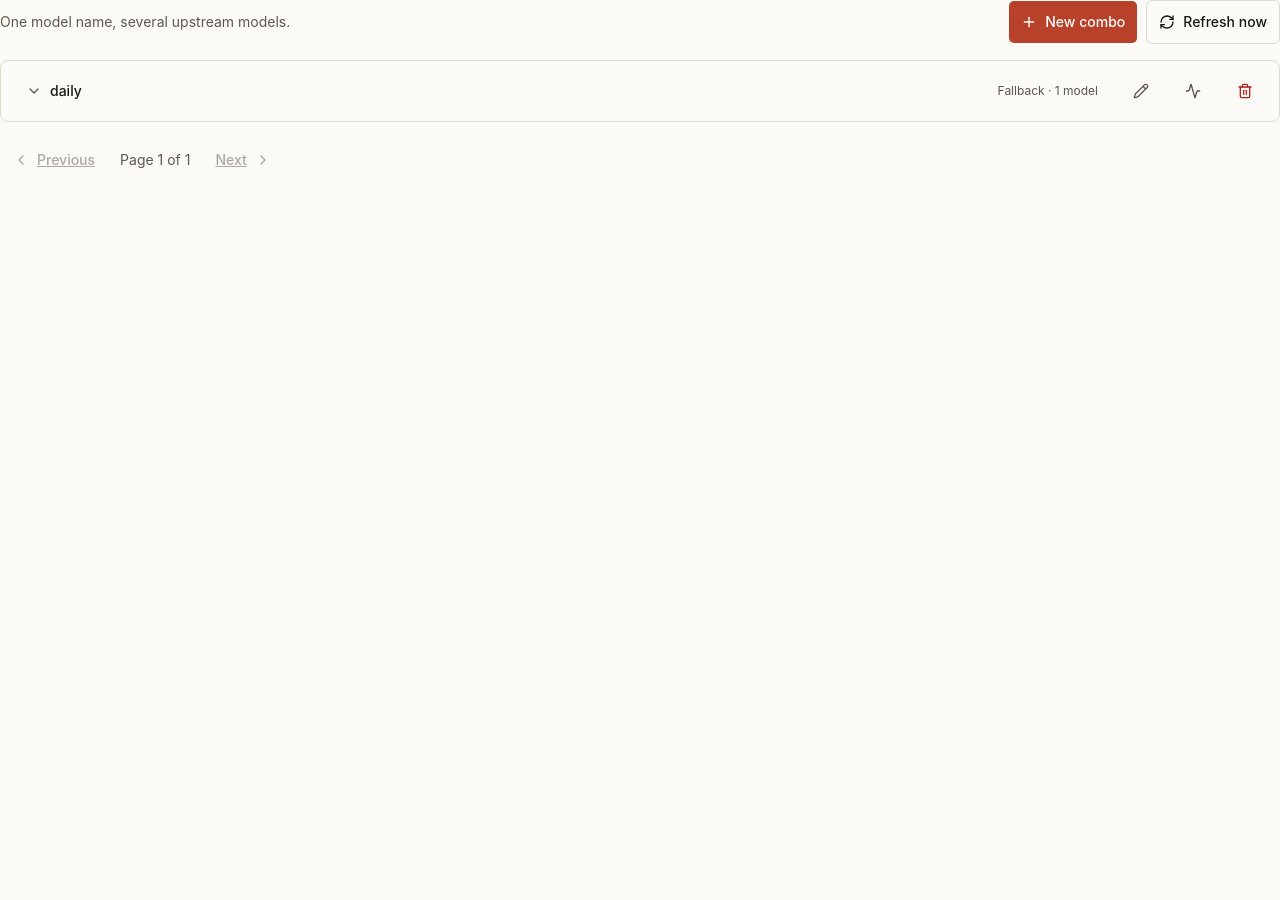
Test case: the combos toolbar › opens the editor as a modal, not inline above the list
Click the button "New combo" at (1073, 22), box [1008,0,1138,44]
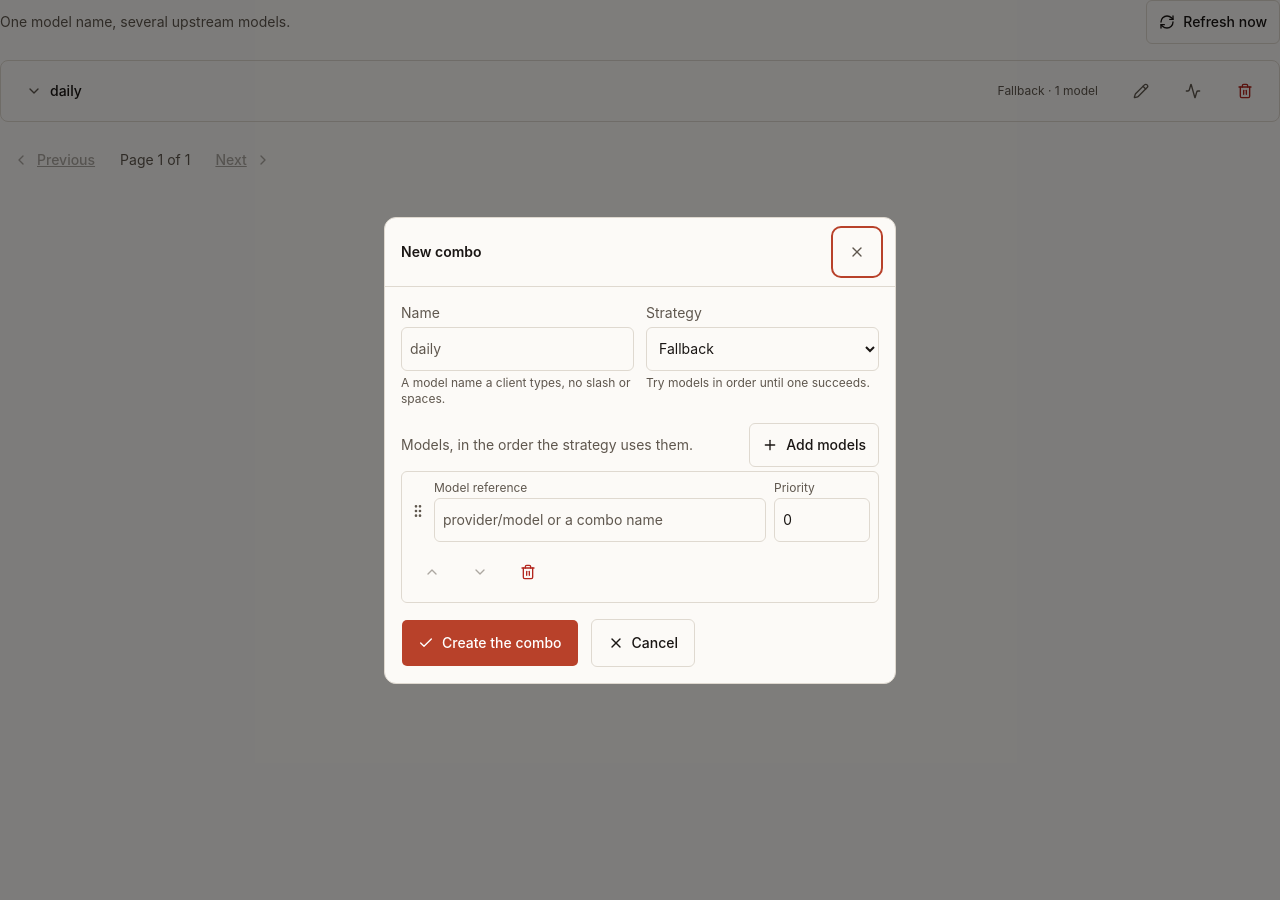
Expected: the field labelled "Name" is shown, [401,326,634,370]
